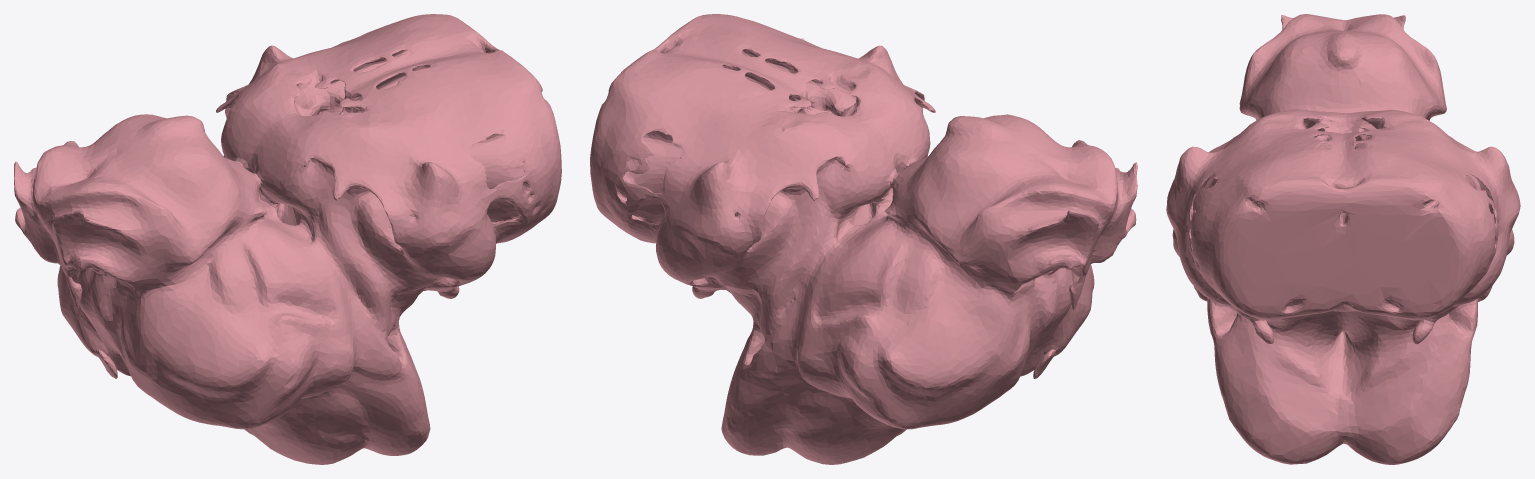
3 renders of one model, left to right at view 1: azimuth 30°, elevation 25°; view 2: azimuth 150°, elevation 25°; view 3: azimuth 270°, elevation 25°, orthographic. The views are drawn at different scales.
Parts seen in each view (by area): view 1: 343.obj; view 2: 343.obj; view 3: 343.obj.
Part boxes in pixels (bbox=[...]): 343.obj: bbox=[14, 14, 561, 464]; 343.obj: bbox=[590, 14, 1137, 464]; 343.obj: bbox=[1166, 14, 1520, 464].
Bounding box in the file's own units: 8681 × 6519 × 6094.
